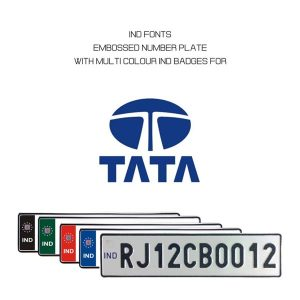number_plate: (101, 234, 283, 278)
